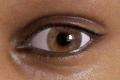eye: (47, 26, 82, 52)
